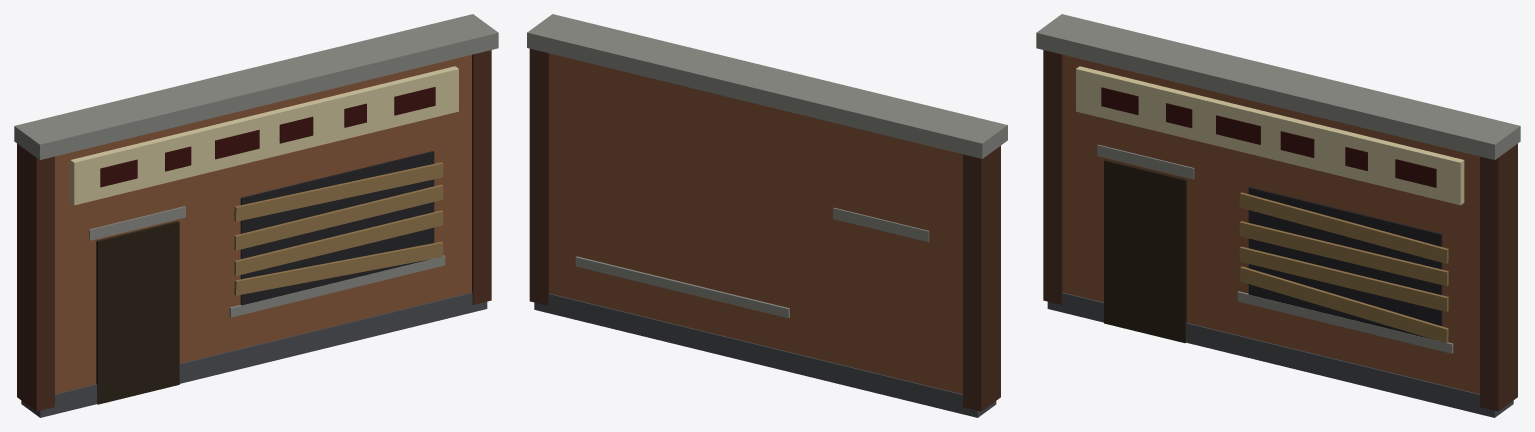
File: wall_shopfront.glb
The picture shows the model from 3 angles, left to right: view 1: azimuth 30°, elevation 25°; view 2: azimuth 150°, elevation 25°; view 3: azimuth 330°, elevation 25°; orthographic projection.
Parts seen in each view (by area): view 1: wall_shopfront; view 2: wall_shopfront; view 3: wall_shopfront.
Boxes of the visible parts, <box> form: wall_shopfront: <box>14,14,498,417</box>; wall_shopfront: <box>527,14,1007,417</box>; wall_shopfront: <box>1036,14,1520,417</box>.
Bounding box in the file's own units: 6.2 × 3.6 × 0.6.
